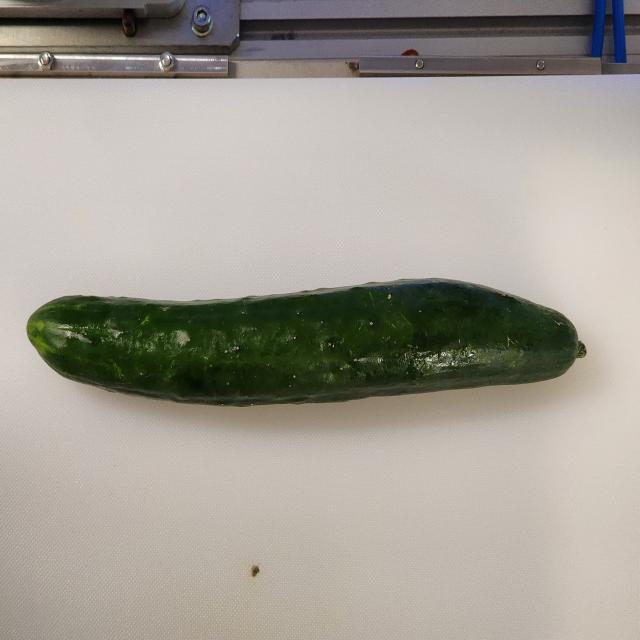cucumber: (26, 276, 587, 406)
